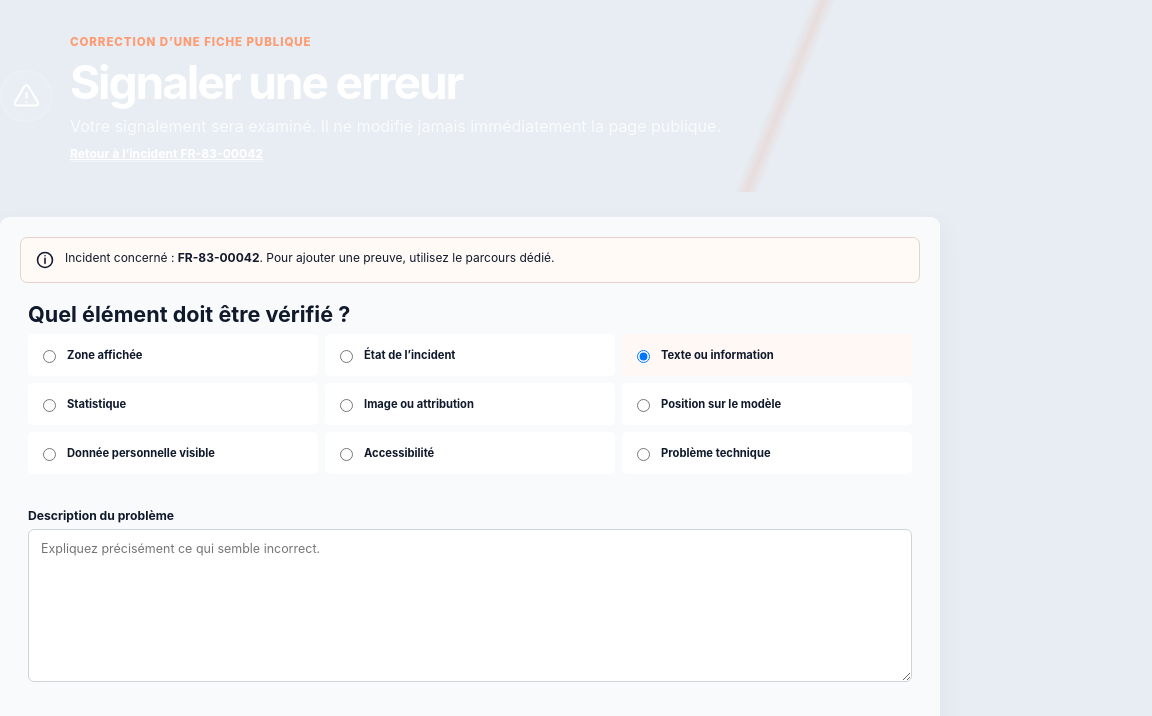
Scenario: parcours publics de contribution › transmet réellement un signalement d’erreur et affiche le reçu serveur
Step 1. Click the radio button labelled "Position sur le modèle" → (644, 406), box [637,399,650,412]
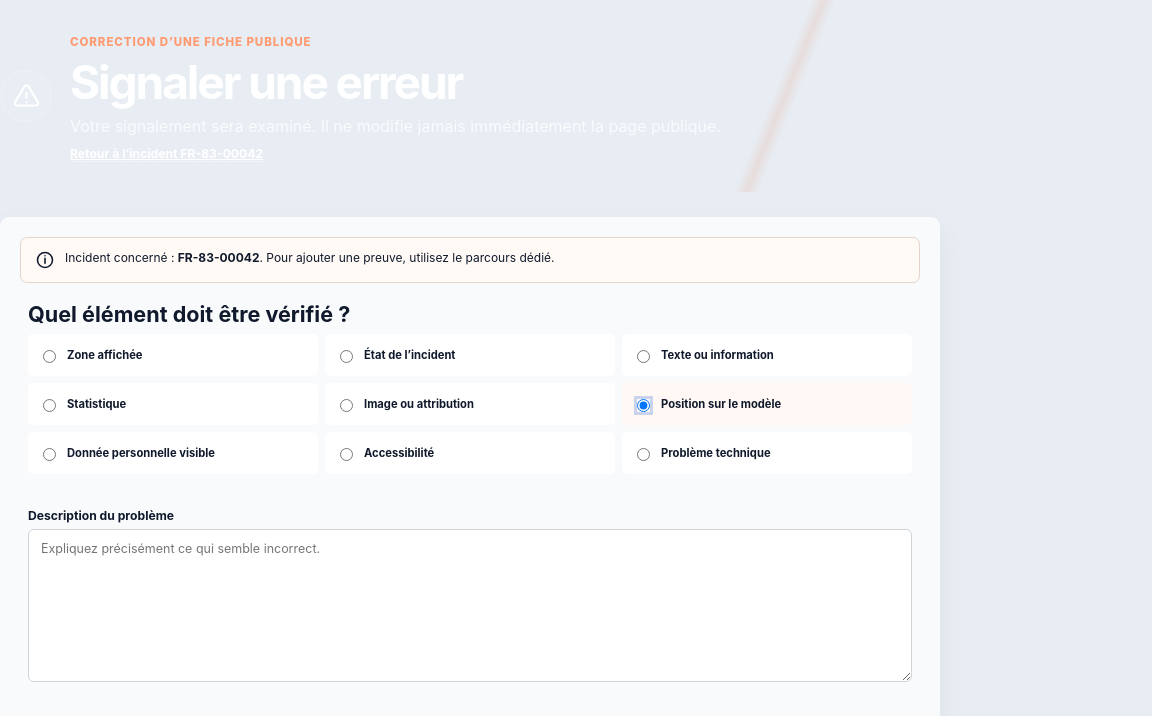
Step 2. Type "Le marqueur est placé sur le mauvais versant." into the text box labelled "Description du problème" → (470, 605), box [28,529,912,682]
(page scrolled)
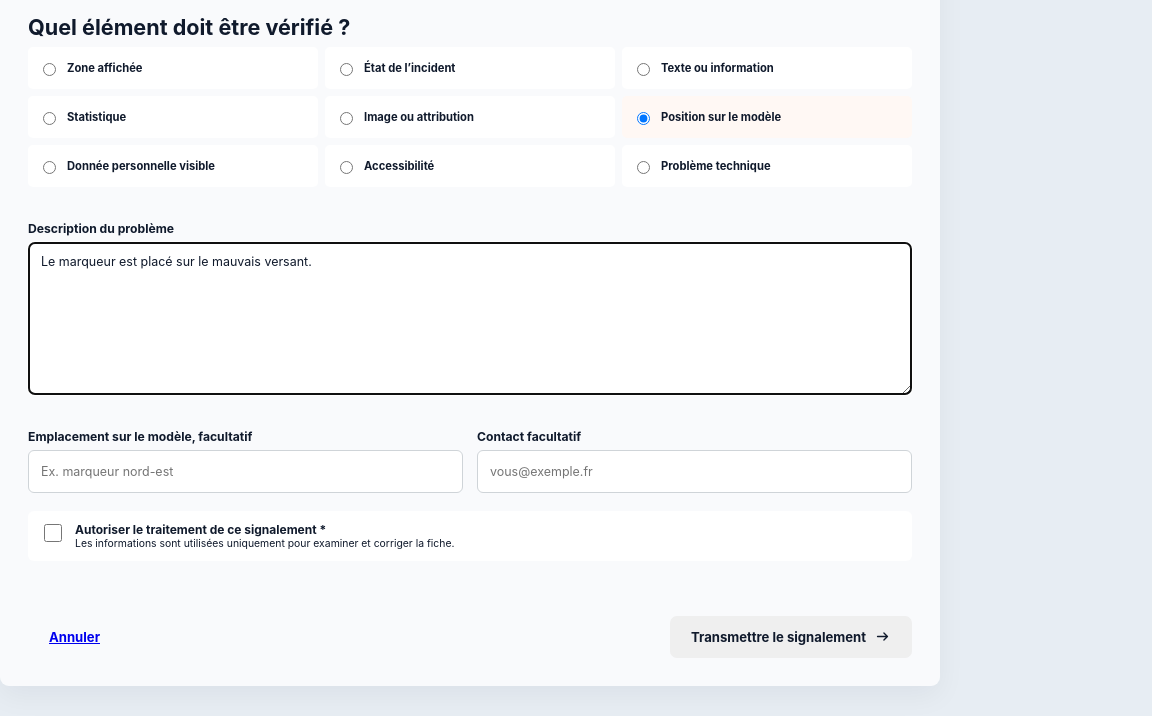
Step 3. Click the checkbox labelled "Autoriser le traitement" → (53, 533), box [44,524,62,542]
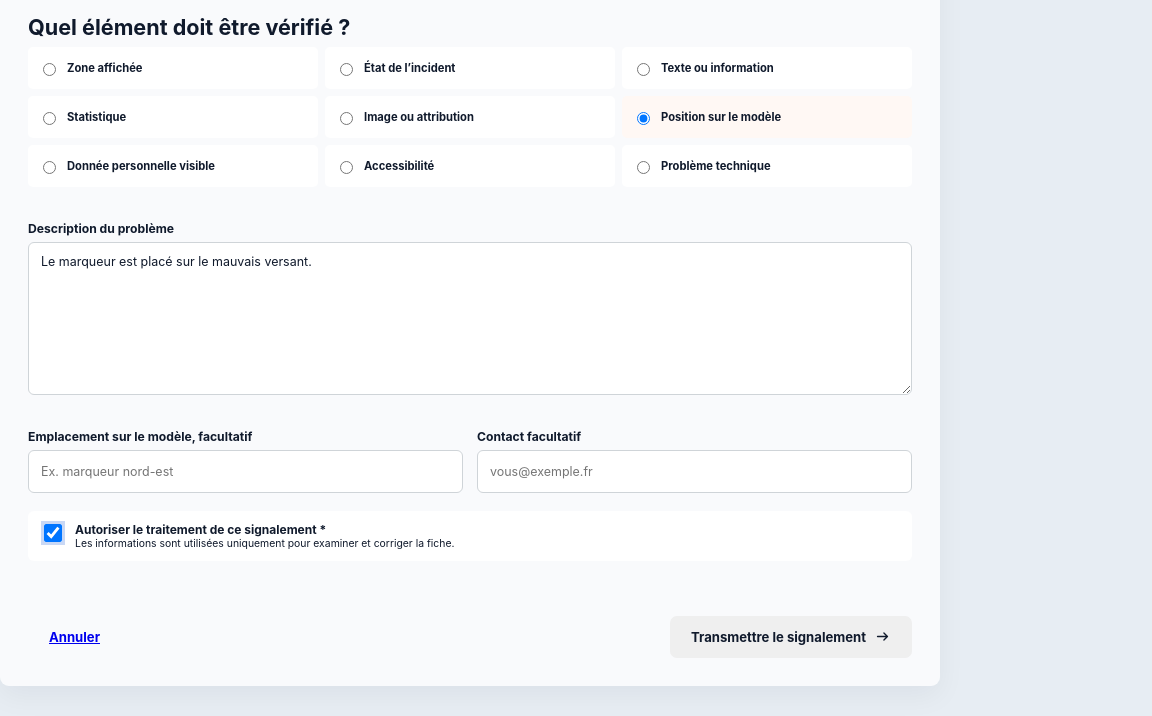
Step 4. Click the button "Transmettre le signalement" → (791, 637), box [670,616,912,658]
(page scrolled)
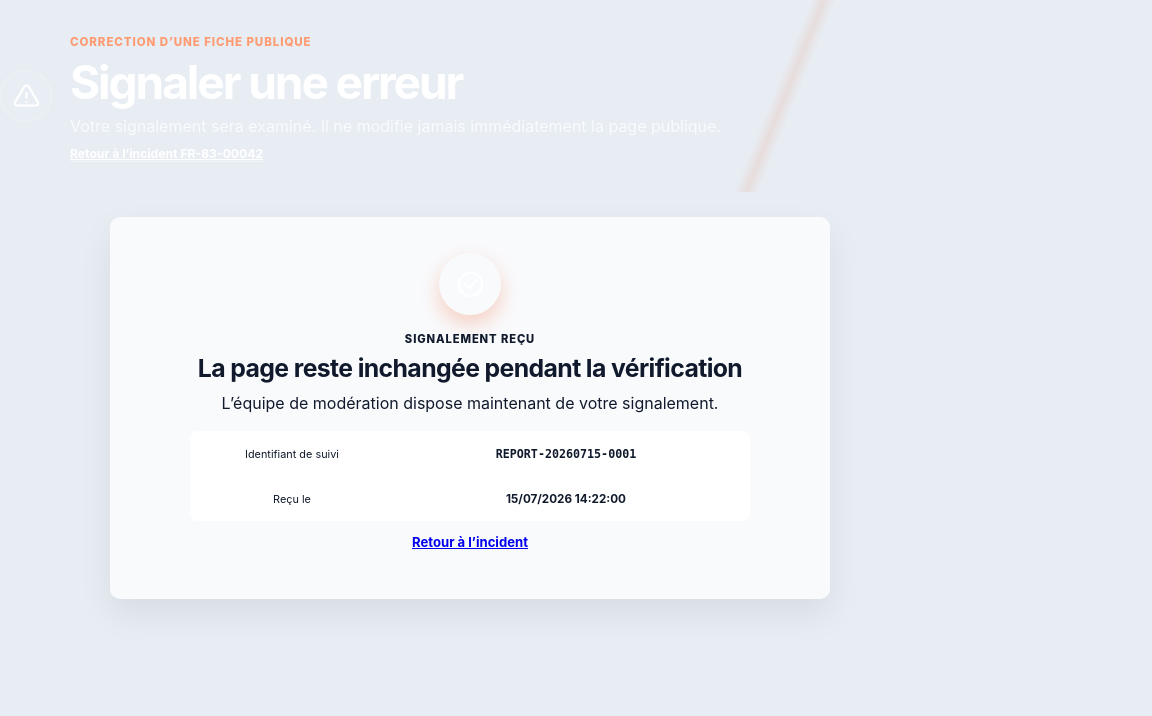
Now the text "REPORT-20260715-0001" is shown, box [496,446,636,460]
Now the heading "La page reste inchangée pendant la vérification" is shown, box [198,353,742,383]
